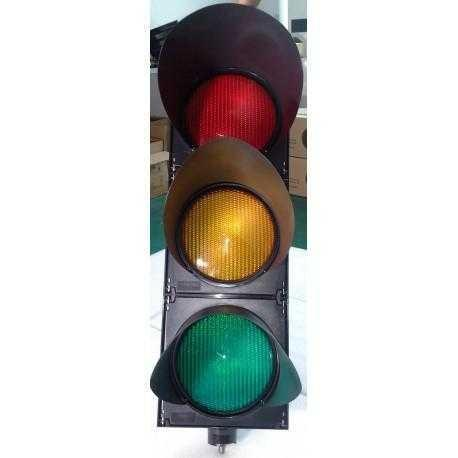5: (166, 32, 283, 163)
9: (164, 159, 285, 292)
red traffic light: (170, 293, 292, 426)
